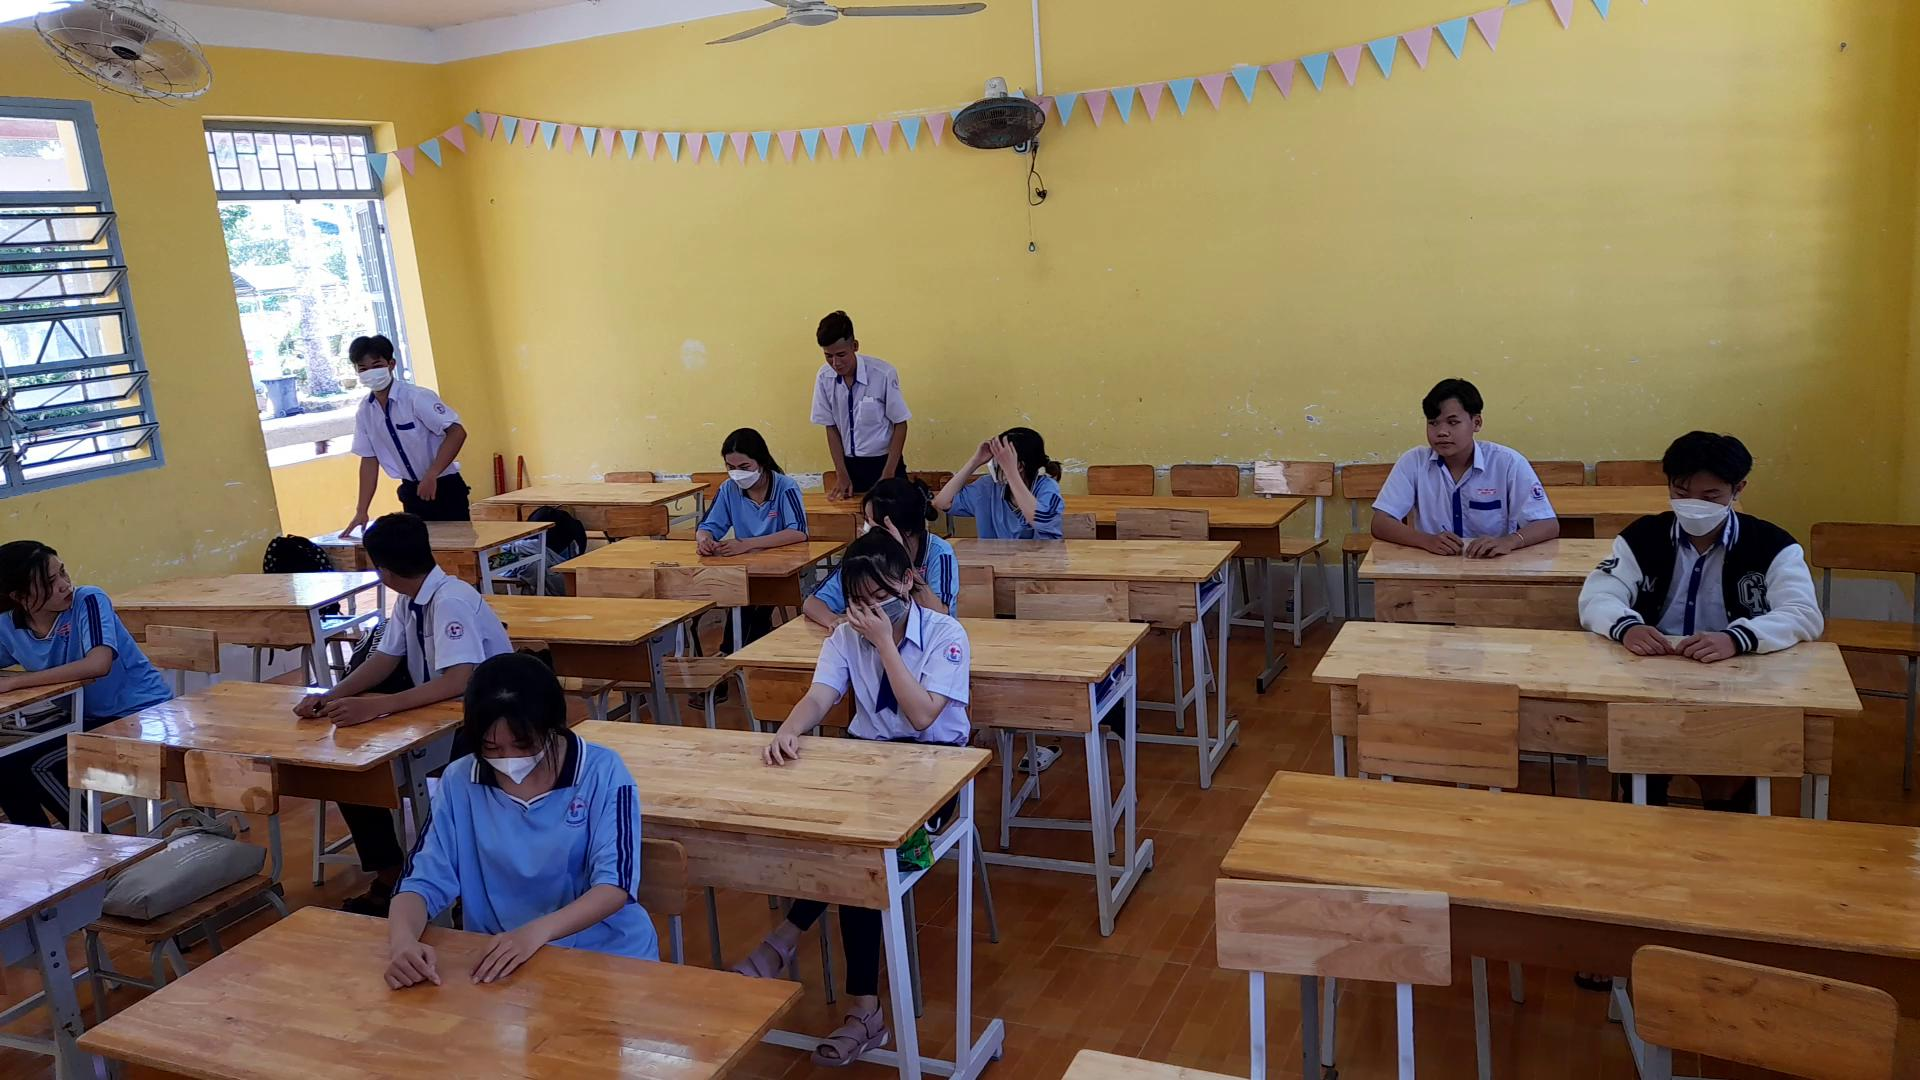Bend Over The Desk: (446, 637, 576, 802)
Look Around: (1, 529, 92, 630), (349, 502, 440, 604)
Normal: (1575, 422, 1825, 661), (1365, 372, 1567, 563), (675, 421, 807, 562)
Stand Up: (345, 314, 475, 512), (808, 305, 916, 504)
Wave: (843, 599, 965, 733), (927, 429, 990, 522), (998, 444, 1062, 537)
